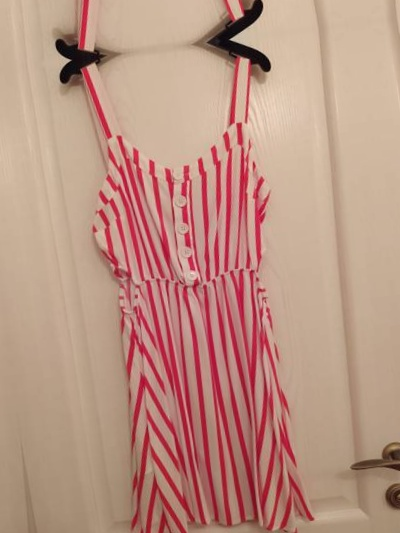Dress: (46, 52, 350, 533), (0, 0, 283, 43)
